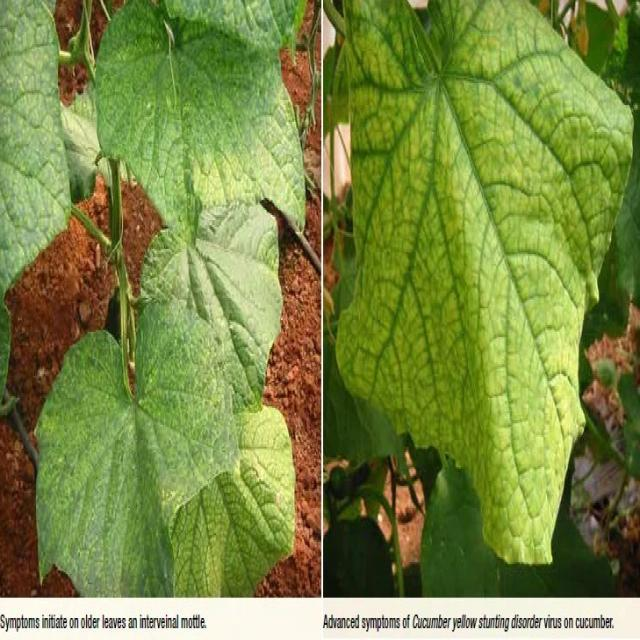Whitefly: (336, 0, 634, 567), (37, 308, 235, 599), (93, 2, 312, 247), (176, 406, 295, 599)
